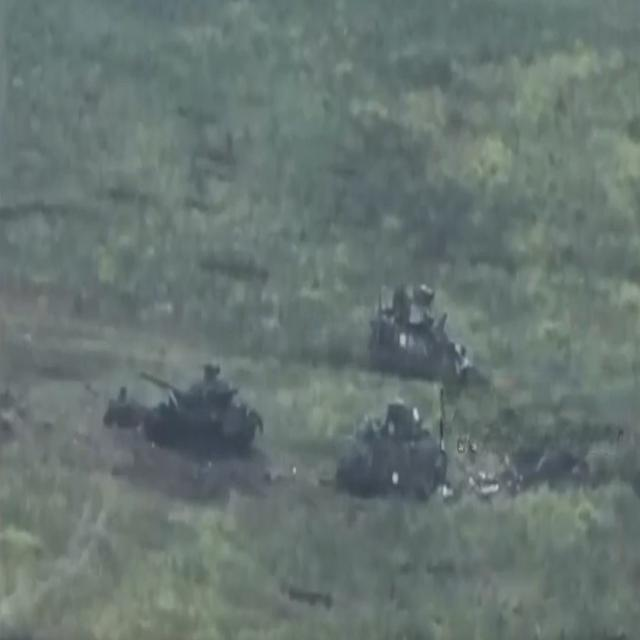AIFV: (340, 398, 449, 501), (366, 280, 475, 377)
MBT: (139, 358, 265, 456)
